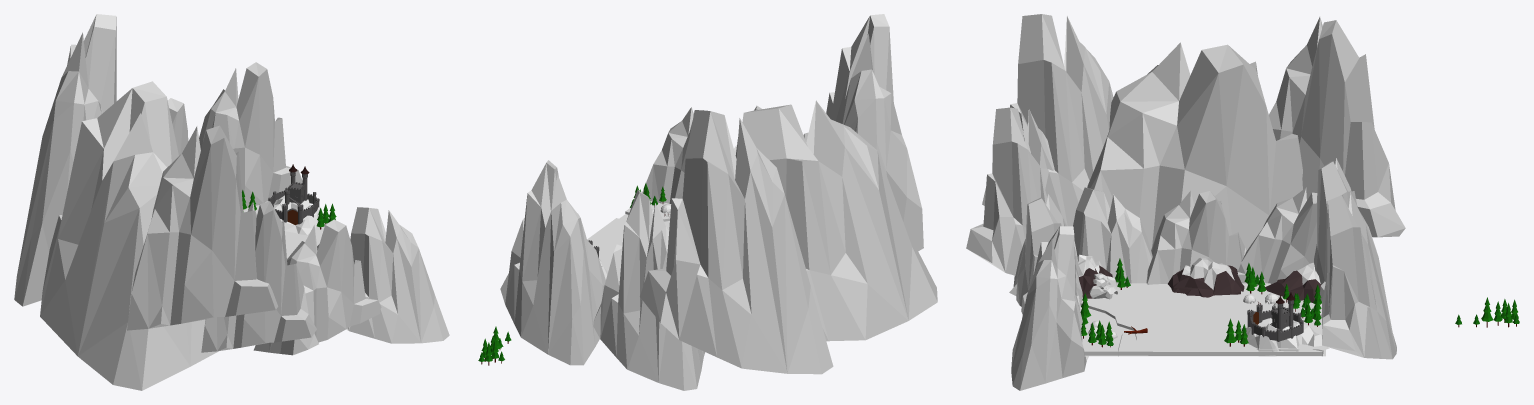
File: карта3.fbx
The picture shows the model from 3 angles, left to right: view 1: azimuth 30°, elevation 25°; view 2: azimuth 150°, elevation 25°; view 3: azimuth 270°, elevation 25°; orthographic projection. The views are drawn at different scales.
Visible parts, largest first — view 1: Plane.004, Plane.015, Plane.012, Plane.013, Plane.009, Plane.014, Plane.010, Plane.011, Plane.005, Cube; view 2: Plane.012, Plane.004, Plane.014, Plane.011, Plane.015, Plane.013, Cube; view 3: Plane.004, Plane.012, Plane.015, Cube, Plane.014, Plane.013, Plane.010, Plane.007, Plane.008, Plane.006, Plane.009, Cube.002 (+5 smaller).
Boxes of the visible parts, left/top/right/bottom form: Plane.004: left=40, top=81, right=218, bottom=390; Plane.015: left=127, top=125, right=278, bottom=330; Plane.012: left=14, top=14, right=116, bottom=306; Plane.013: left=346, top=207, right=449, bottom=343; Plane.009: left=253, top=219, right=381, bottom=355; Plane.014: left=199, top=62, right=302, bottom=207; Plane.010: left=201, top=201, right=316, bottom=352; Plane.011: left=167, top=98, right=188, bottom=155; Plane.005: left=273, top=195, right=322, bottom=235; Cube: left=243, top=201, right=350, bottom=258; Plane.012: left=640, top=110, right=833, bottom=374; Plane.004: left=742, top=100, right=937, bottom=341; Plane.014: left=500, top=160, right=605, bottom=365; Plane.011: left=593, top=189, right=704, bottom=390; Plane.015: left=830, top=14, right=923, bottom=252; Plane.013: left=642, top=107, right=704, bottom=203; Cube: left=587, top=201, right=671, bottom=271; Plane.004: left=1087, top=42, right=1302, bottom=250; Plane.012: left=1269, top=17, right=1405, bottom=237; Plane.015: left=982, top=14, right=1113, bottom=226; Cube: left=1080, top=283, right=1325, bottom=356; Plane.014: left=1320, top=192, right=1396, bottom=359; Plane.013: left=1011, top=226, right=1088, bottom=390; Plane.010: left=966, top=107, right=1054, bottom=275; Plane.007: left=1146, top=191, right=1246, bottom=284; Plane.008: left=1073, top=187, right=1152, bottom=283; Plane.006: left=1238, top=187, right=1317, bottom=285; Plane.009: left=1009, top=194, right=1082, bottom=314; Cube.002: left=1080, top=306, right=1322, bottom=356.
Size of the model in its own units: 9741 by 8162 by 14494.
